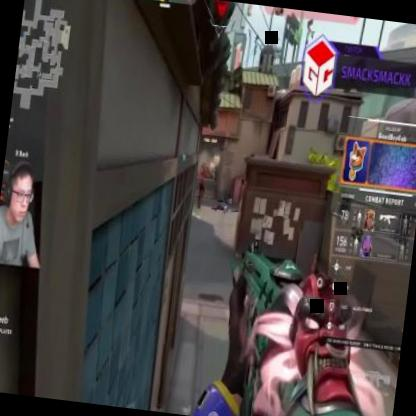enemy: (194, 176, 206, 211)
enemy_head: (199, 176, 205, 185)
